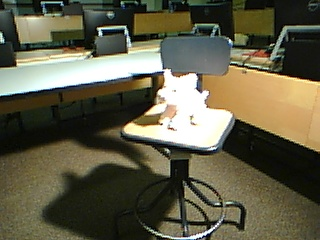piggy: (157, 67, 211, 133)
